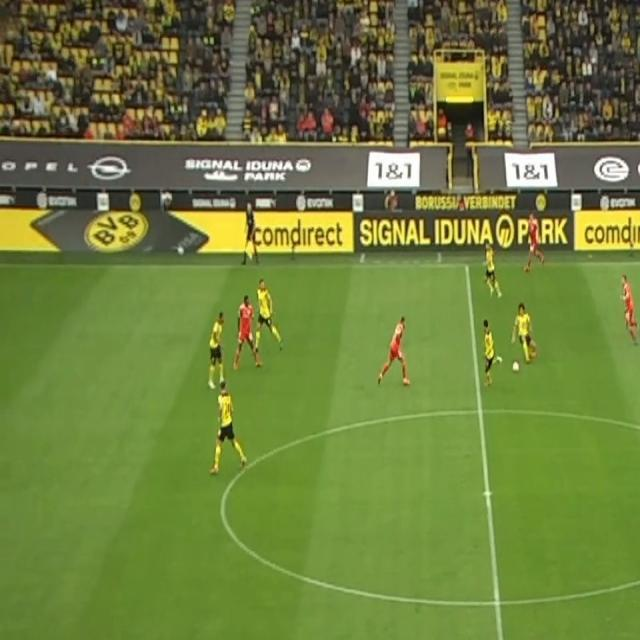ball: (512, 360, 520, 374)
